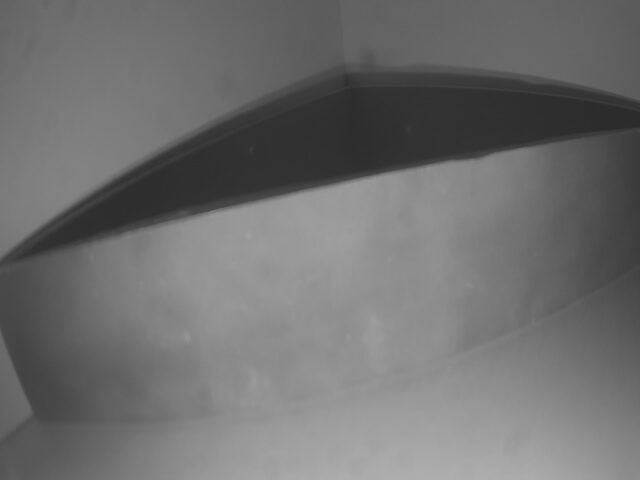Green: (3, 117, 640, 428)
